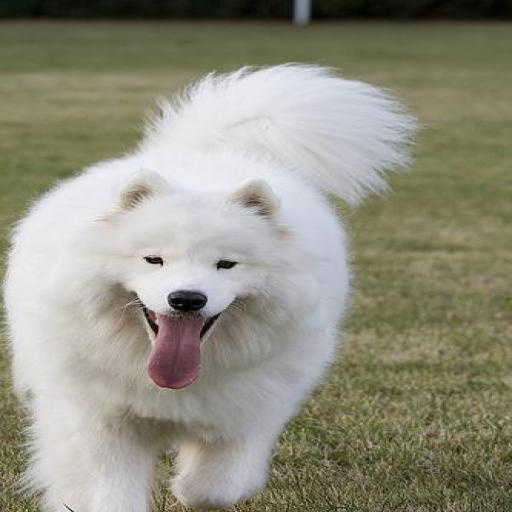dog_face: (79, 170, 288, 376)
